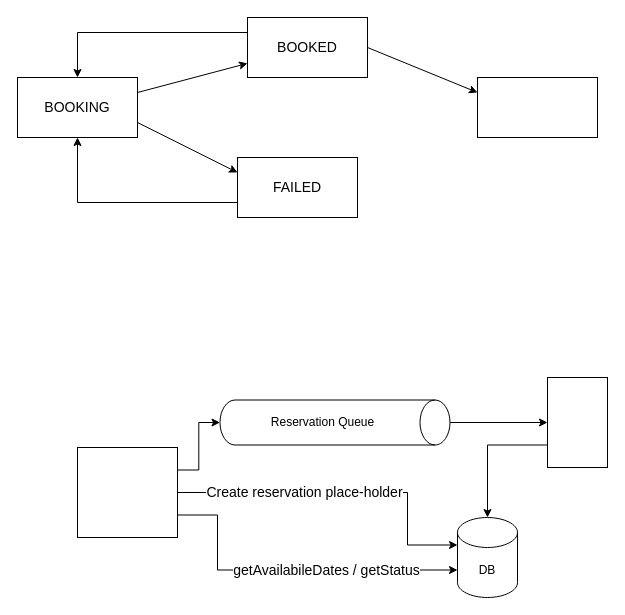
The diagram is 625 pixels wide and 615 high, and some of its shapes have lost their labels. Here are the shapes that lost their labels. From the top down, the box of each, then its label:
(476, 76, 598, 138): CANCELED
(546, 376, 608, 468): Reserver Job
(76, 446, 178, 538): Reservation API
